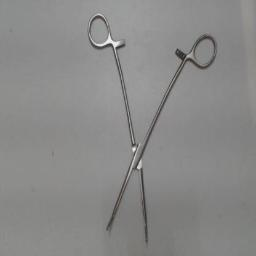Lahey Forceps: (80, 10, 220, 244)
